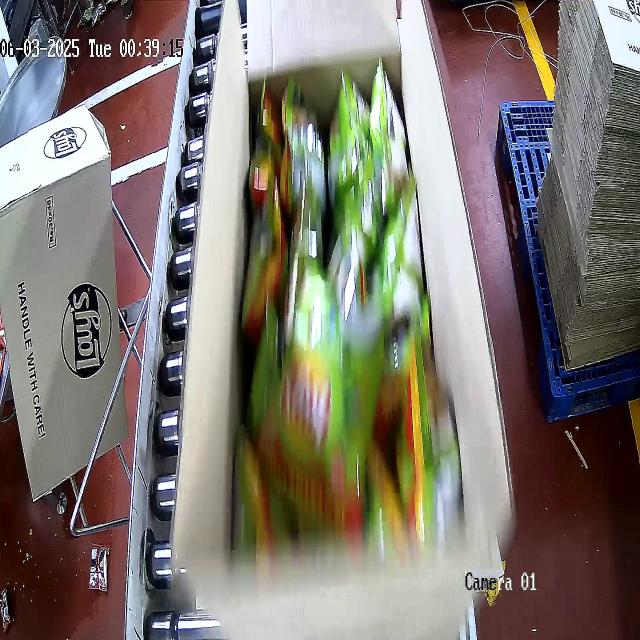YOGURT_HERB: (233, 55, 446, 584)
